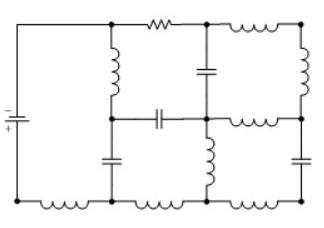inductor: (215, 10, 282, 40), (218, 109, 283, 138), (28, 187, 94, 211), (105, 42, 128, 109), (222, 191, 286, 213), (121, 189, 188, 208), (290, 42, 313, 97), (198, 130, 219, 187)
